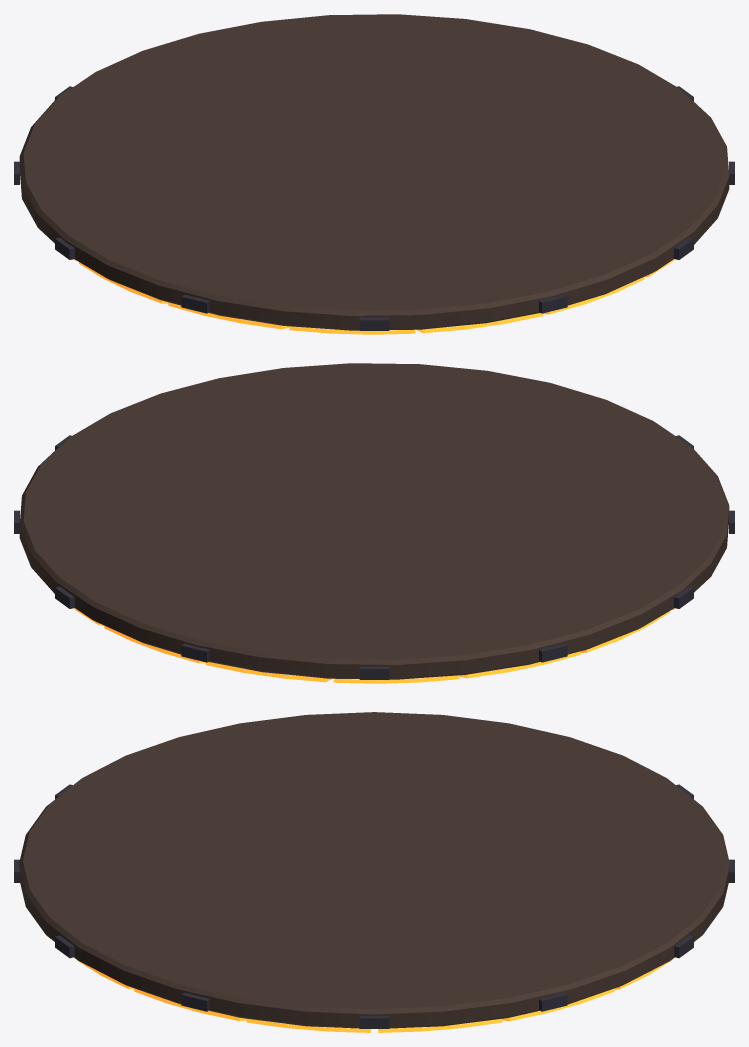
The model's file is heat_shield.glb.
3 views of the same model, one above another, from view 1: azimuth 30°, elevation 25°; view 2: azimuth 150°, elevation 25°; view 3: azimuth 270°, elevation 25° (orthographic).
Parts seen in each view (by area): view 1: shield_Ablative, shield_Emissive, shield_Graphite; view 2: shield_Ablative, shield_Emissive, shield_Graphite; view 3: shield_Ablative, shield_Emissive, shield_Graphite.
Boxes of the visible parts, x1,y1,x2,y2 form: shield_Ablative: (19,14,729,330); shield_Emissive: (74,259,674,334); shield_Graphite: (14,86,734,330); shield_Ablative: (19,363,729,679); shield_Emissive: (74,608,674,683); shield_Graphite: (14,435,734,679); shield_Ablative: (19,712,729,1028); shield_Emissive: (74,957,674,1032); shield_Graphite: (14,784,734,1028).
Bounding box in the file's own units: 0.73 × 0.1 × 0.73.
